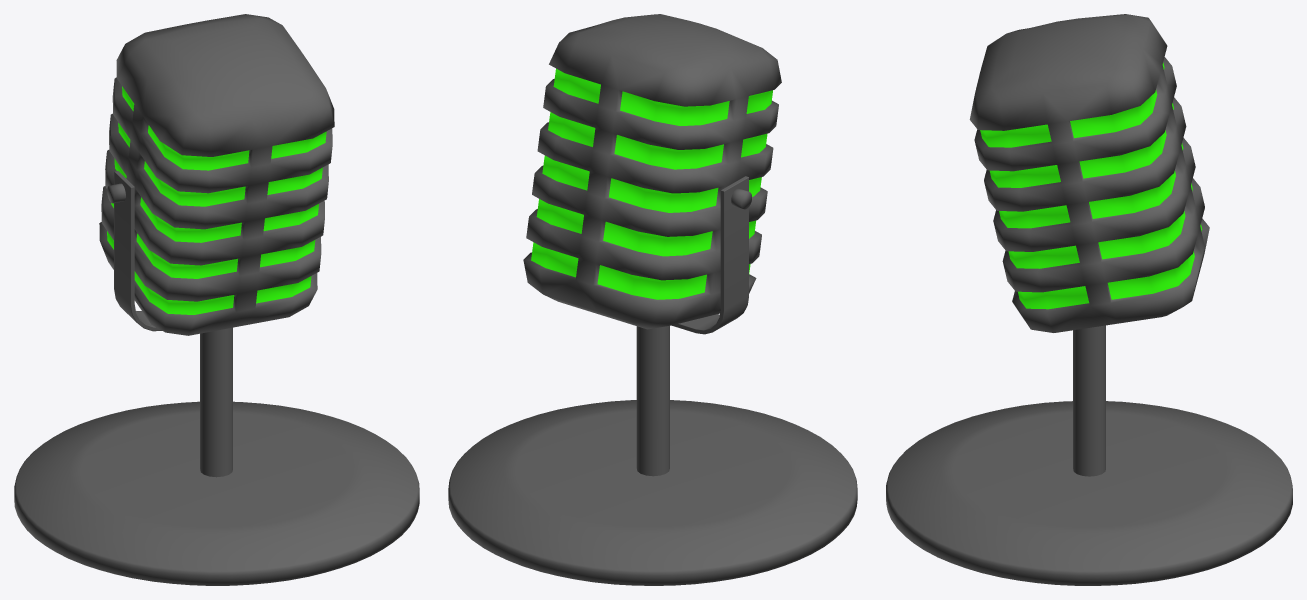
File: mic_on.glb
The picture shows the model from 3 angles, left to right: view 1: azimuth 30°, elevation 25°; view 2: azimuth 150°, elevation 25°; view 3: azimuth 270°, elevation 25°; orthographic projection.
Visible parts, largest first — view 1: Microphone, Base, Stand 2, Stand; view 2: Microphone, Base, Stand 2, Stand; view 3: Microphone, Base, Stand 2.
Part boxes in pixels (x1=…): Microphone: x1=99, y1=14, x2=334, y2=335; Base: x1=14, y1=401, x2=419, y2=585; Stand 2: x1=200, y1=327, x2=232, y2=477; Stand: x1=114, y1=171, x2=161, y2=331; Microphone: x1=523, y1=14, x2=781, y2=329; Base: x1=448, y1=400, x2=857, y2=585; Stand 2: x1=636, y1=325, x2=669, y2=476; Stand: x1=671, y1=176, x2=748, y2=334; Microphone: x1=969, y1=14, x2=1209, y2=332; Base: x1=886, y1=401, x2=1292, y2=585; Stand 2: x1=1073, y1=325, x2=1105, y2=476.
Size of the model in its own units: 1.13 by 1.43 by 1.13.
